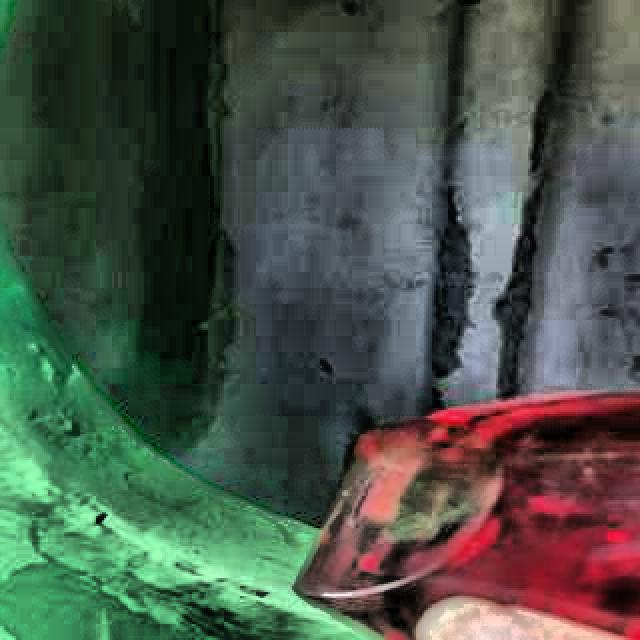glass: (299, 394, 640, 640)
